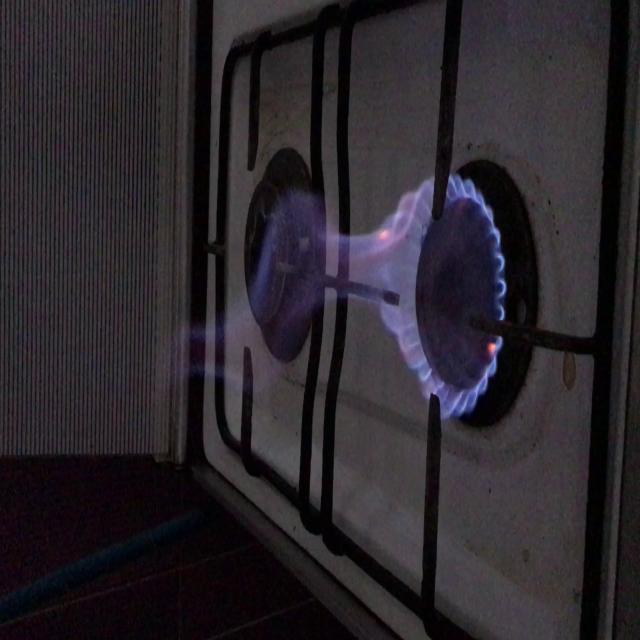Fire: (263, 168, 514, 426)
